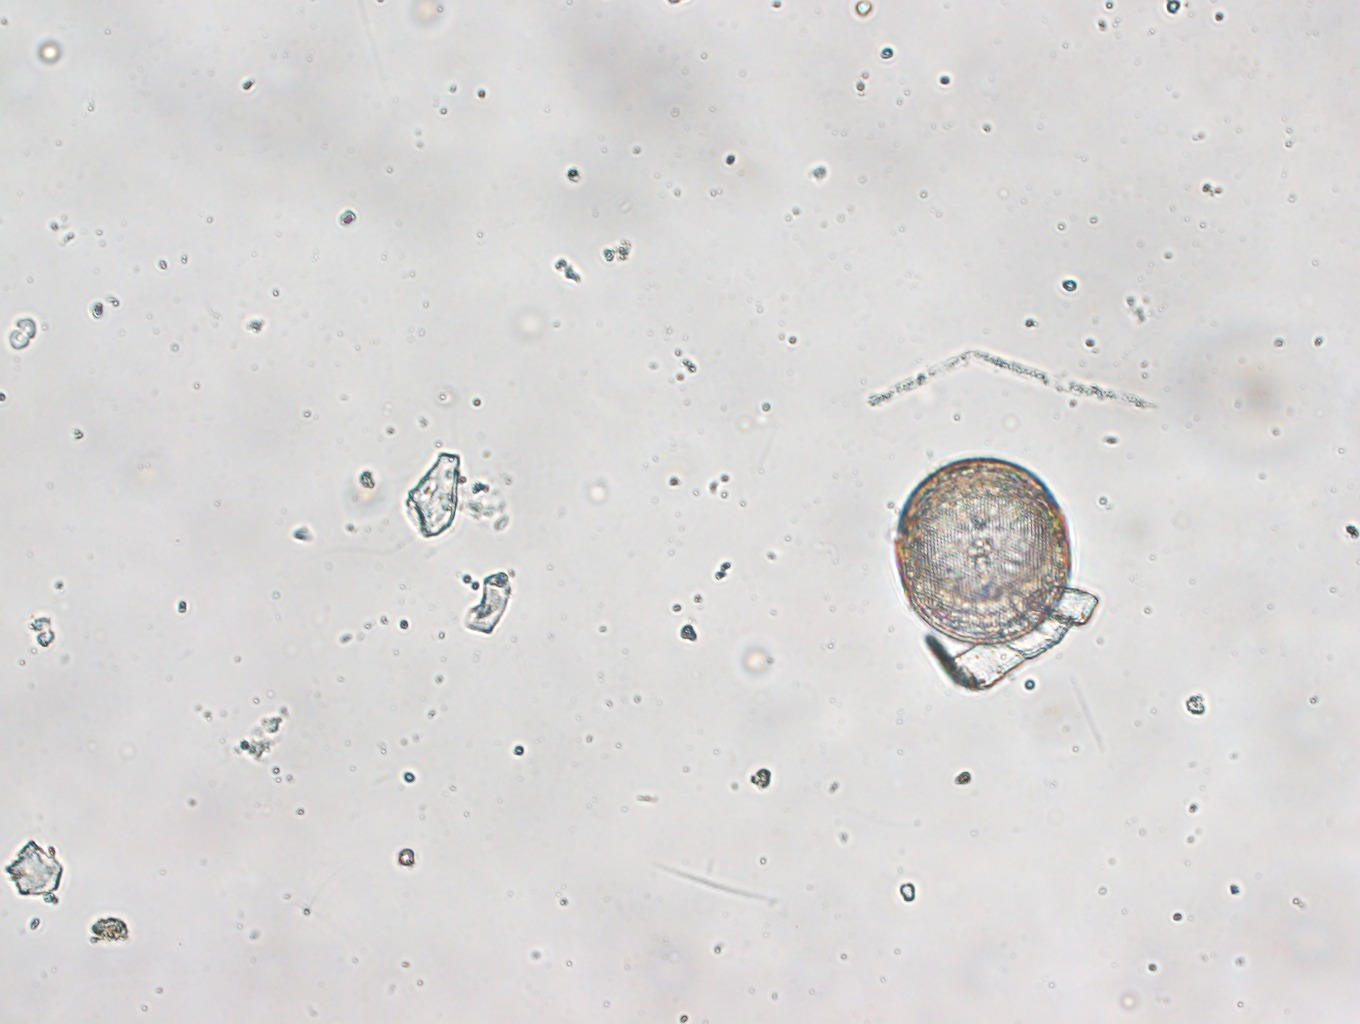coscinodiscus: (894, 457, 1071, 648)
